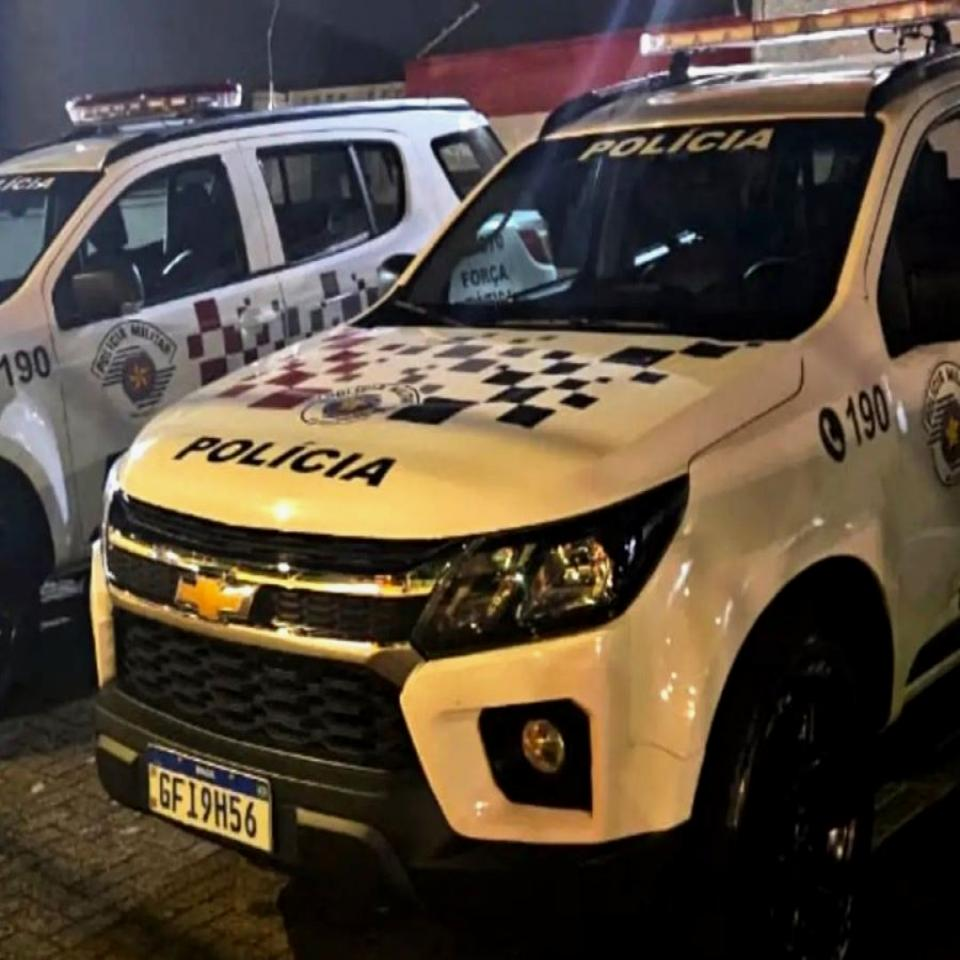viatura: (88, 1, 960, 957), (0, 79, 555, 698)
